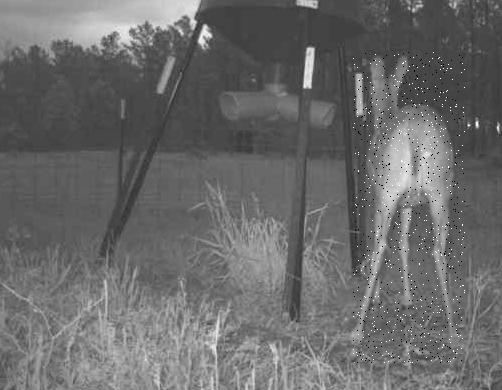Deer: (352, 52, 464, 363)
